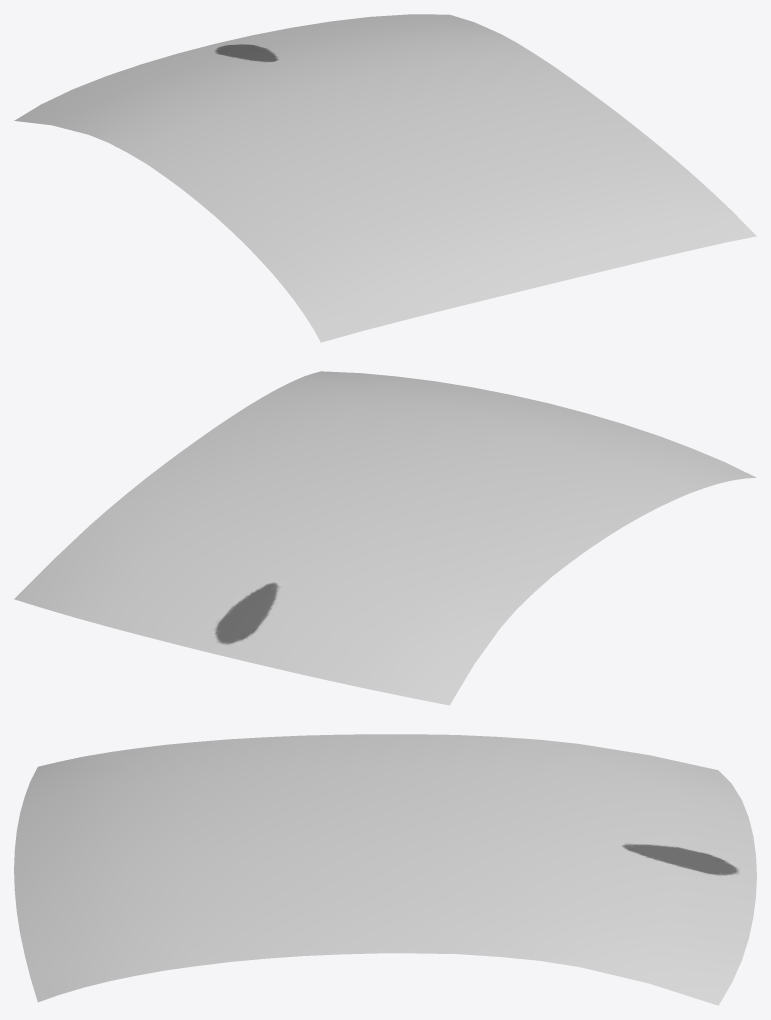
The model's file is M2roof.glb.
3 renders of one model, top to bottom at view 1: azimuth 30°, elevation 25°; view 2: azimuth 150°, elevation 25°; view 3: azimuth 270°, elevation 25°, orthographic. The views are drawn at different scales.
Parts seen in each view (by area): view 1: Object_23.066; view 2: Object_23.066; view 3: Object_23.066.
Boxes of the visible parts, bbox=[...] form: Object_23.066: bbox=[14, 14, 756, 342]; Object_23.066: bbox=[14, 371, 755, 705]; Object_23.066: bbox=[14, 734, 756, 1005].
Size of the model in its own units: 1.04 by 0.1208 by 1.38.
1 material, 1 textured.
